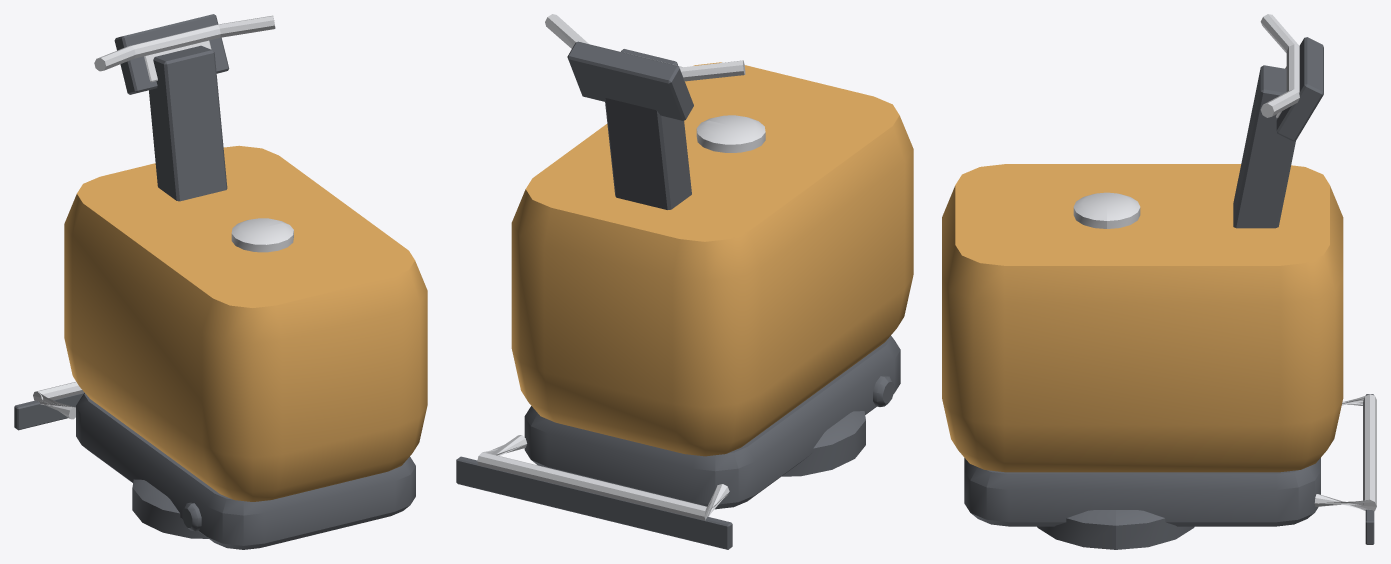
File: office-lobby-and-facilities-floor-scrubber-c87ccd4d__26265.glb
The picture shows the model from 3 angles, left to right: view 1: azimuth 30°, elevation 25°; view 2: azimuth 150°, elevation 25°; view 3: azimuth 270°, elevation 25°; orthographic projection. The views are drawn at different scales.
Visible parts, largest first — view 1: floor-scrubber; view 2: floor-scrubber; view 3: floor-scrubber.
Part boxes in pixels (left/top/right/bottom): floor-scrubber: left=14, top=14, right=427, bottom=549; floor-scrubber: left=456, top=14, right=913, bottom=549; floor-scrubber: left=942, top=14, right=1376, bottom=549.
Size of the model in its own units: 0.6799 by 1.07 by 0.9756.
